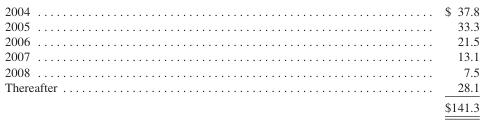table: (3, 3, 478, 113)
table column: (3, 3, 250, 113), (250, 3, 478, 113)
table row: (3, 78, 478, 96), (3, 96, 478, 113), (3, 3, 478, 18), (3, 18, 478, 33), (3, 33, 478, 48), (3, 48, 478, 63), (3, 63, 478, 78)
